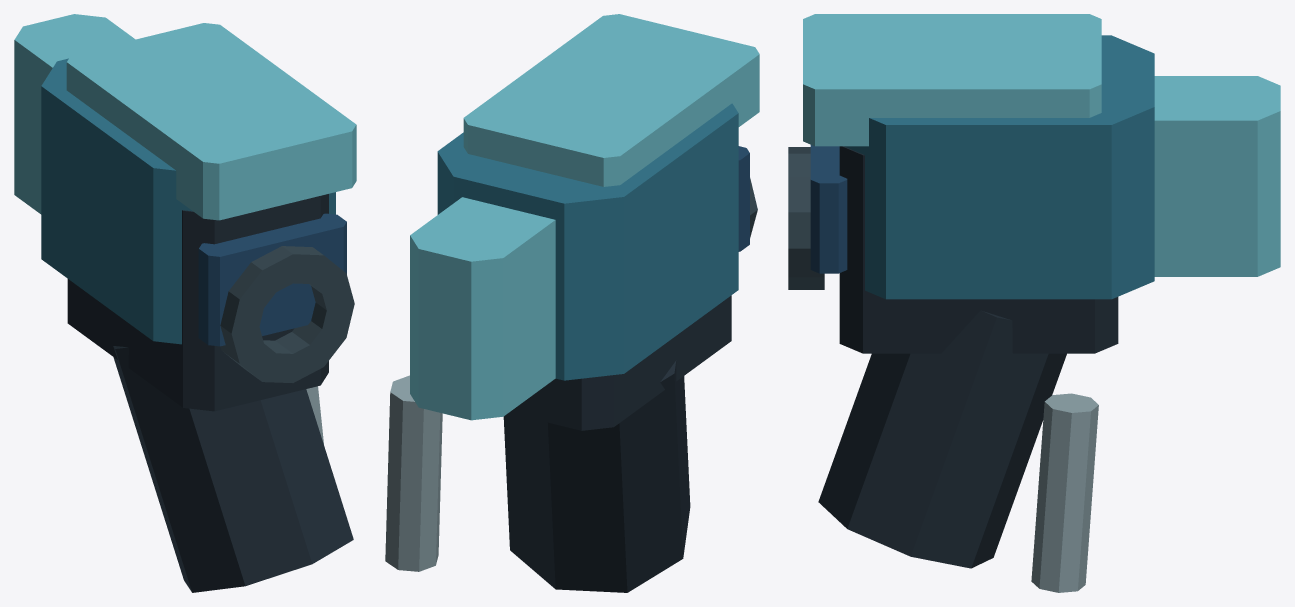
The model's file is enemy_marksman_upper_arm_r.obj.
3 renders of one model, left to right at view 1: azimuth 30°, elevation 25°; view 2: azimuth 150°, elevation 25°; view 3: azimuth 270°, elevation 25°, orthographic. The views are drawn at different scales.
Bounding box in the file's own units: 0.4509 × 0.8144 × 0.7425.
